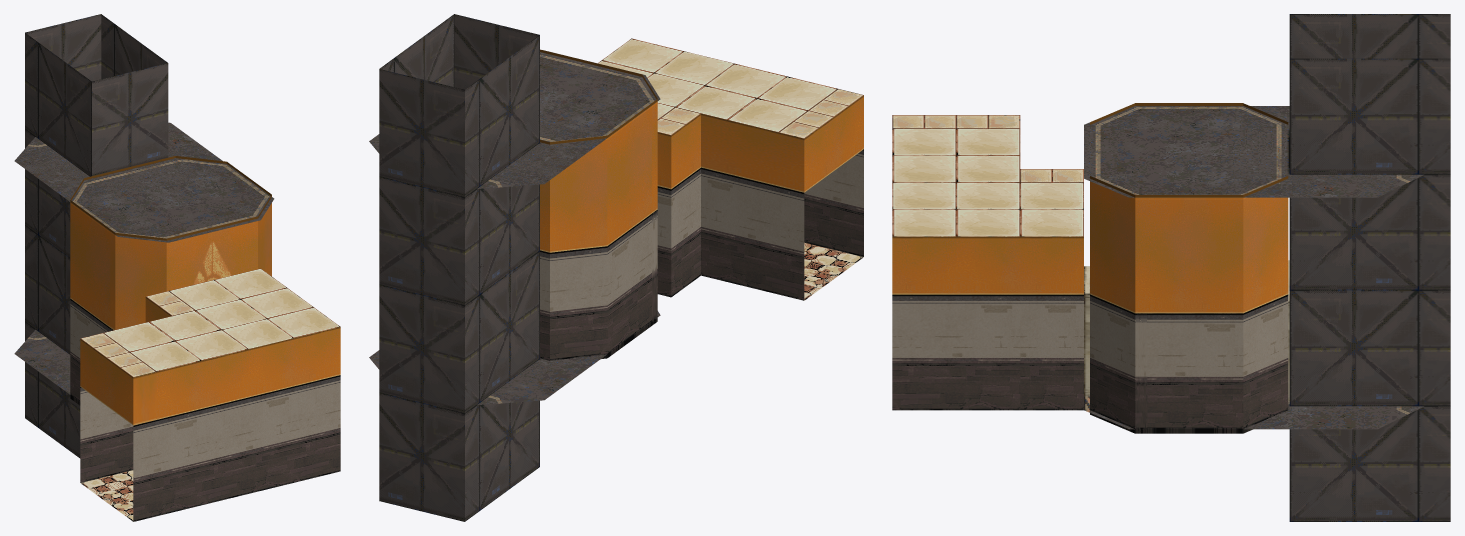
The model's file is entrance.fbx.
3 renders of one model, left to right at view 1: azimuth 30°, elevation 25°; view 2: azimuth 150°, elevation 25°; view 3: azimuth 270°, elevation 25°, orthographic. The views are drawn at different scales.
Visible parts, largest first — view 1: Main Mesh, Shaft.003, ElevCeilAndFloor, Shaft.001, Shaft, Shaft.002, Plane.005, Plane.010, Plane.016, Plane.011, Plane.013, Plane.014 (+4 smaller); view 2: Main Mesh, Shaft.003, Shaft.001, Shaft, Shaft.002, ElevCeilAndFloor, Plane.010, Plane.005, Plane.014, Plane.004, Plane.015, Plane.009 (+1 smaller); view 3: Main Mesh, Shaft.003, ElevCeilAndFloor, Shaft.001, Shaft.002, Shaft, Plane.004, Plane.005, Plane.009, Plane.010, Plane.013, Plane.014 (+5 smaller).
Boxes of the visible parts, left/top/right/bottom form: Main Mesh: left=70, top=156, right=340, bottom=521; Shaft.003: left=25, top=14, right=168, bottom=176; ElevCeilAndFloor: left=14, top=122, right=274, bottom=394; Shaft.001: left=25, top=225, right=70, bottom=354; Shaft: left=25, top=322, right=80, bottom=458; Shaft.002: left=25, top=129, right=70, bottom=258; Plane.005: left=176, top=330, right=247, bottom=360; Plane.010: left=150, top=310, right=221, bottom=340; Plane.016: left=241, top=288, right=313, bottom=318; Plane.011: left=169, top=279, right=240, bottom=310; Plane.013: left=196, top=299, right=267, bottom=329; Plane.014: left=222, top=318, right=293, bottom=349; Main Mesh: left=540, top=49, right=863, bottom=360; Shaft.003: left=379, top=14, right=539, bottom=197; Shaft.001: left=379, top=251, right=539, bottom=413; Shaft: left=379, top=393, right=539, bottom=521; Shaft.002: left=379, top=177, right=539, bottom=305; ElevCeilAndFloor: left=369, top=51, right=660, bottom=405; Plane.010: left=675, top=85, right=756, bottom=119; Plane.005: left=705, top=63, right=786, bottom=97; Plane.014: left=654, top=51, right=734, bottom=85; Plane.004: left=727, top=98, right=807, bottom=132; Plane.015: left=602, top=38, right=682, bottom=72; Plane.009: left=757, top=76, right=837, bottom=110; Main Mesh: left=892, top=103, right=1288, bottom=433; Shaft.003: left=1289, top=14, right=1450, bottom=174; ElevCeilAndFloor: left=1084, top=106, right=1423, bottom=429; Shaft.001: left=1289, top=290, right=1450, bottom=406; Shaft.002: left=1289, top=174, right=1450, bottom=290; Shaft: left=1289, top=406, right=1450, bottom=521; Plane.004: left=956, top=128, right=1020, bottom=155; Plane.005: left=892, top=155, right=956, bottom=182; Plane.009: left=892, top=128, right=956, bottom=155; Plane.010: left=956, top=155, right=1020, bottom=182; Plane.013: left=956, top=182, right=1020, bottom=209; Plane.014: left=892, top=182, right=956, bottom=209.
Bounding box in the file's own units: 520 × 800 × 874.
